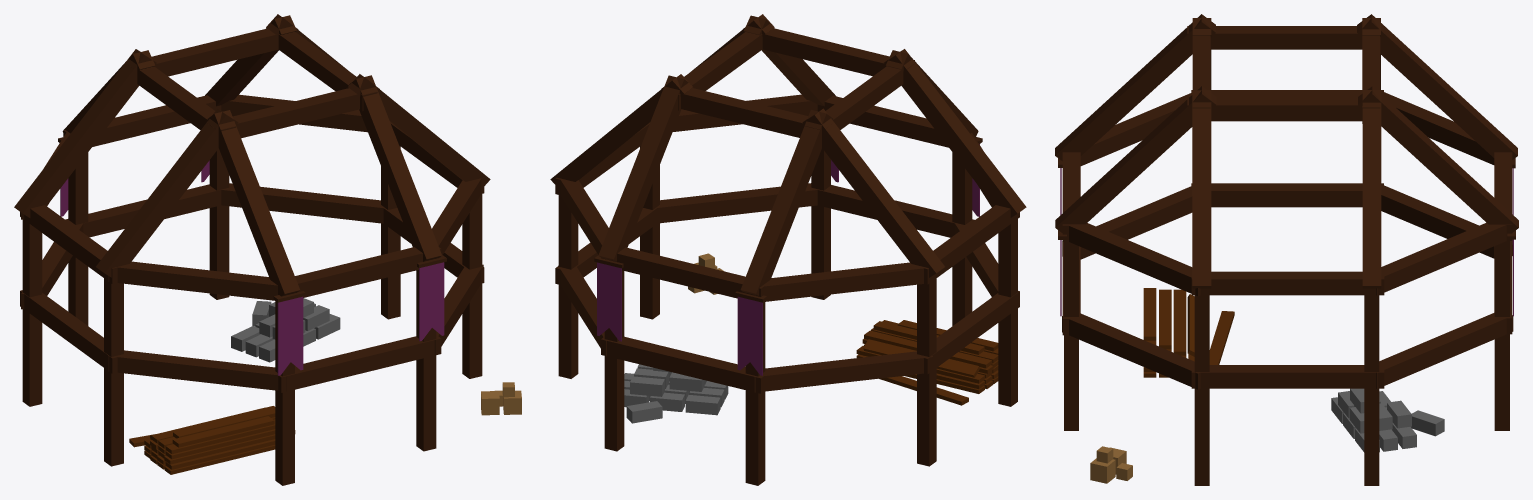
File: LibraryBuildPhase2v1.fbx
The picture shows the model from 3 angles, left to right: view 1: azimuth 30°, elevation 25°; view 2: azimuth 150°, elevation 25°; view 3: azimuth 270°, elevation 25°; orthographic projection. The views are drawn at different scales.
Parts seen in each view (by area): view 1: Cube.2594; view 2: Cube.2594; view 3: Cube.2594.
Part boxes in pixels (x1,y1,x2,y2): Cube.2594: (14, 14, 521, 485); Cube.2594: (550, 14, 1026, 485); Cube.2594: (1055, 14, 1518, 485).
Size of the model in its own units: 208 by 167 by 208.
